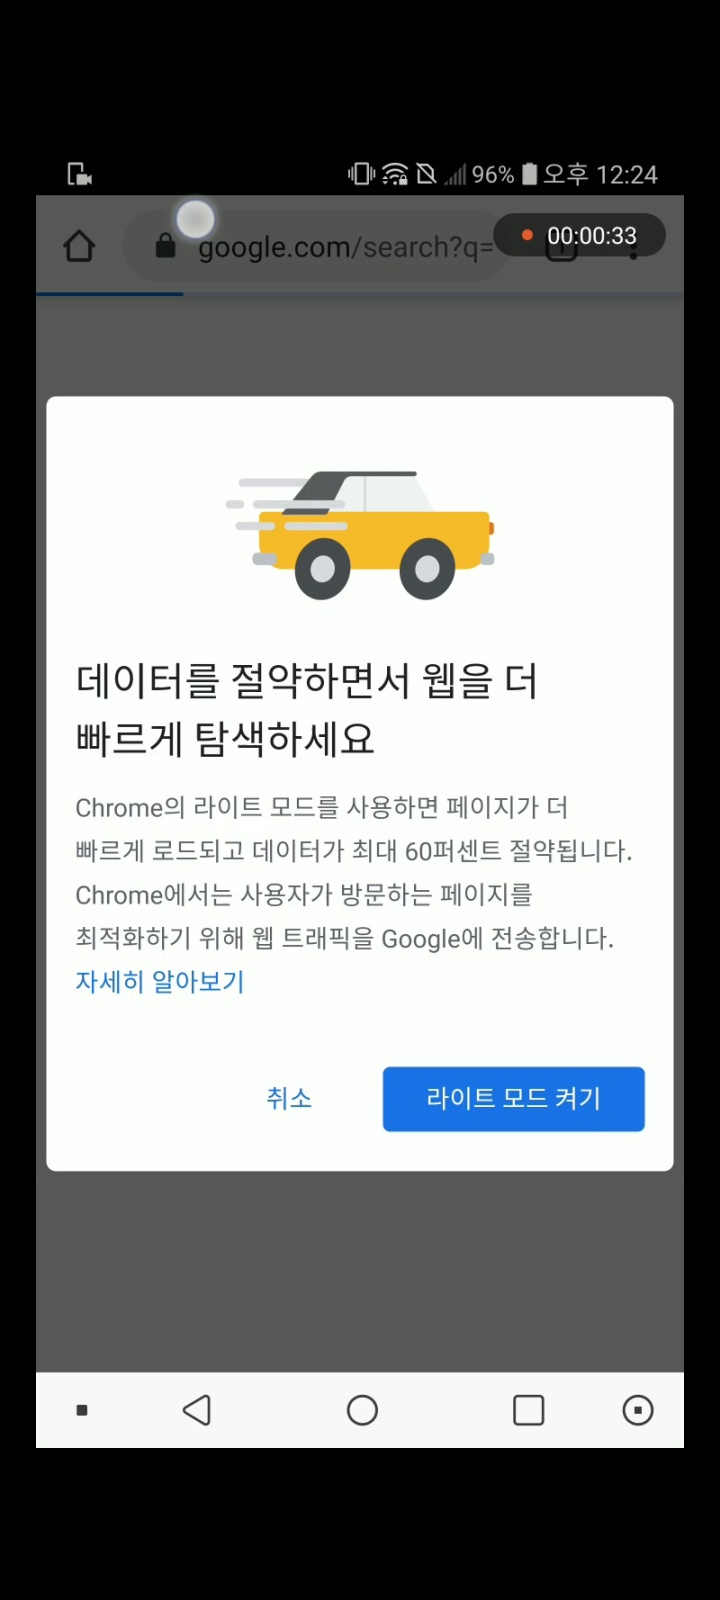Cursor: (173, 197, 218, 243)
